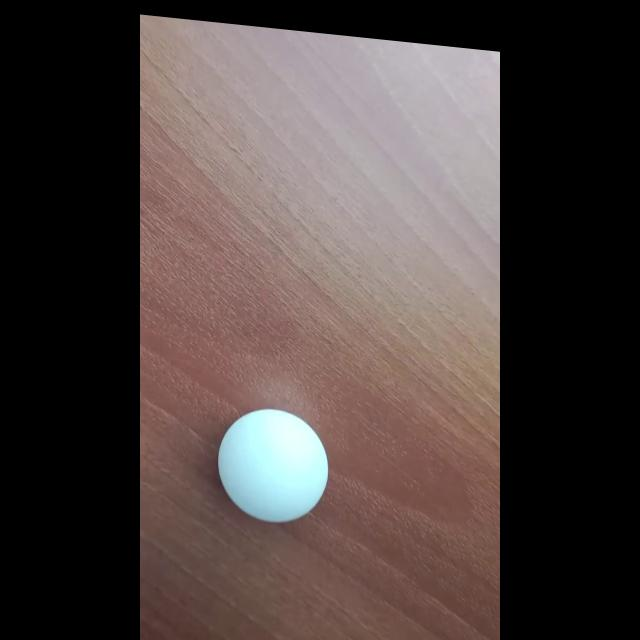white ball: (217, 402, 329, 529)
